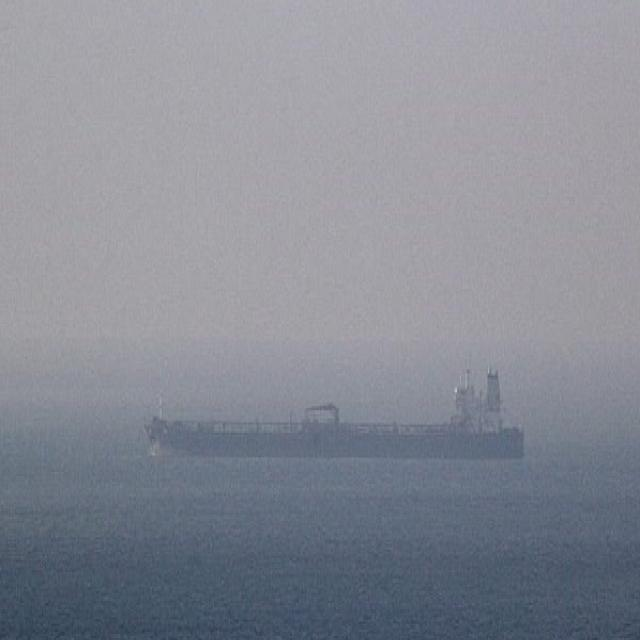cargoship: (142, 351, 526, 459)
